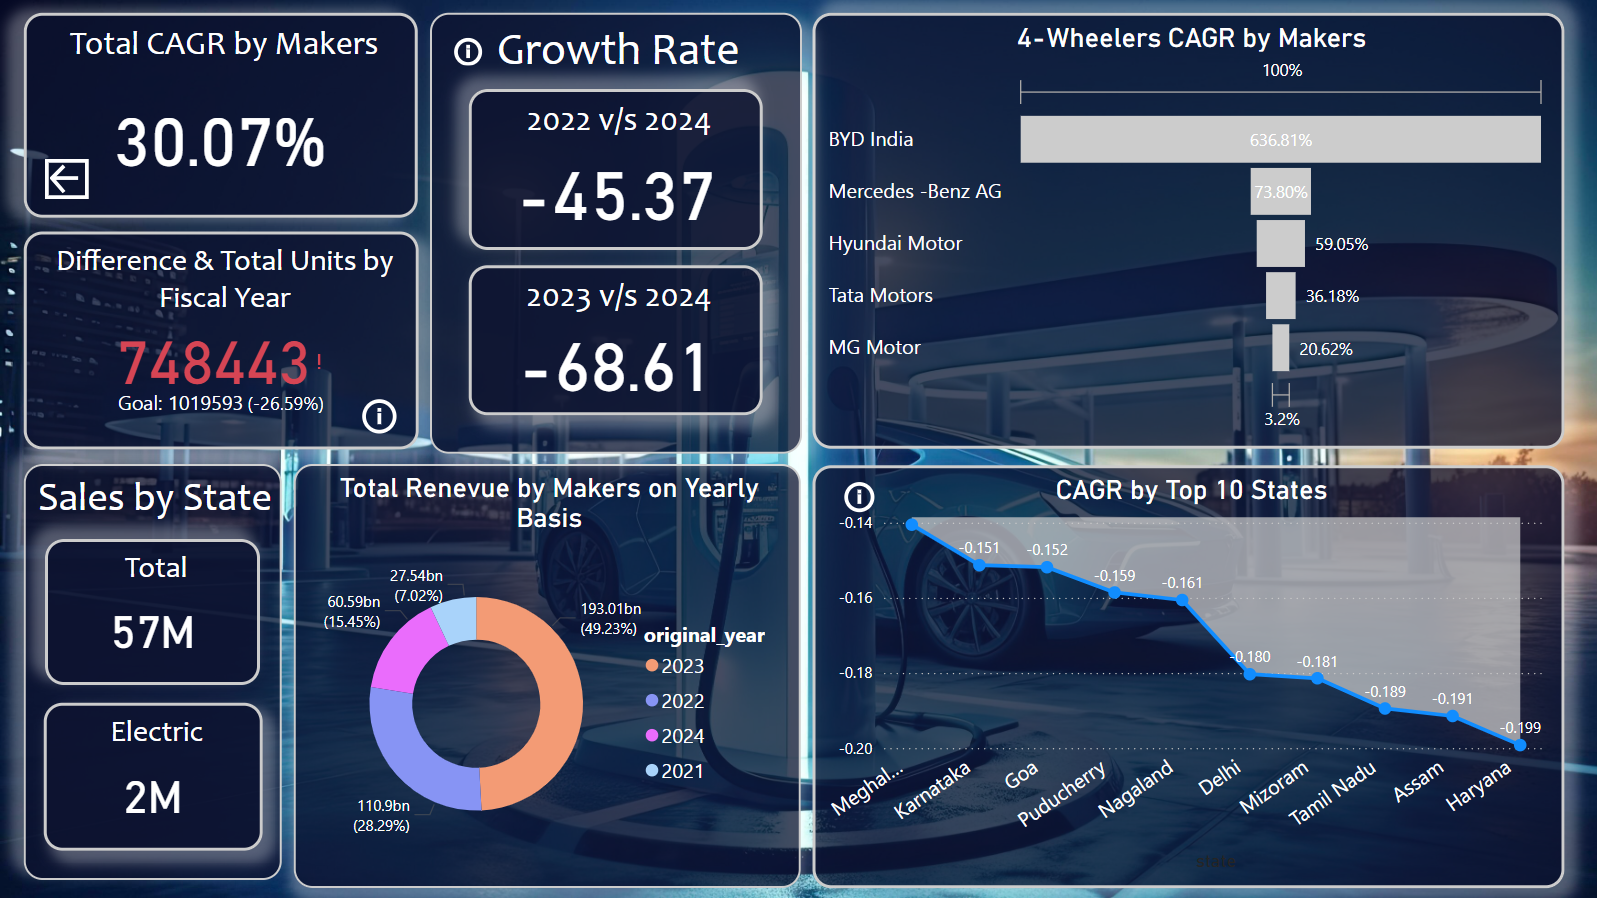

Layout of this report page (visuals, bound fields, positions):
{"tool":"powerbi","page":{"name":"Static Analysis","canvas":[1280,720],"ordinal":1},"visuals":[{"type":"card","title":"Total CAGR by Makers","fields":{"Values":["All measures.CAGR_by_Makers"]},"box":[18.9,11.4,315.5,164.1],"z":0},{"type":"funnel","title":"4-Wheelers CAGR by Makers","fields":{"Category":["Total_Units_By_Maker_4W_CAGR.maker"],"Y":["Sum(Total_Units_By_Maker_4W_CAGR.CAGR)"]},"box":[649.7,11.1,601,349.2],"z":1000},{"type":"stackedAreaChart","title":"CAGR by Top 10 States","fields":{"Category":["Total_CAGR_By_State.state"],"Y":["Sum(Total_CAGR_By_State.CAGR)"]},"box":[649.7,372.9,601,338.1],"z":2000},{"type":"group","id":"g1","title":"Group 2","box":[343.8,10.9,296.8,353.5],"z":5000,"group":"g5"},{"type":"actionButton","box":[670.8,382.4,35,32.6],"z":6000},{"type":"shape","title":"Sales by State","box":[18.9,372.3,205.7,333.2],"z":6500,"group":"g2"},{"type":"group","id":"g2","title":"Group 3","box":[18.9,372.3,205.7,333.2],"z":7000},{"type":"card","title":"Total","fields":{"Values":["Sum(sales_by_state.total_vehicles_sold)"]},"box":[35.8,432.1,171.6,117.4],"z":7000,"group":"g2"},{"type":"shape","title":"Growth Rate ","box":[343.8,10.9,296.8,353.5],"z":8000,"group":"g3"},{"type":"actionButton","box":[36.2,127.9,35,32.6],"z":8000},{"type":"card","title":"Electric","fields":{"Values":["Sum(sales_by_state.electric_vehicles_sold)"]},"box":[35.4,563.7,174.2,117.4],"z":8000,"group":"g2"},{"type":"card","title":"2022 v/s 2024","fields":{"Values":["Revenue_growth_rate.GrowthRate_2022_2024"]},"box":[374.6,72.3,235.4,129.1],"z":8500,"group":"g3"},{"type":"kpi","title":"Difference & Total Units by Fiscal Year","fields":{"Indicator":["All measures.sales_difference"],"TrendLine":["sales_by_state.fiscal_year"],"Goal":["sales_by_state.el_sold_vehicle"]},"box":[18.9,185.5,315.5,174.2],"z":9000,"group":"g4"},{"type":"card","title":"2023 v/s 2024","fields":{"Values":["Revenue_growth_rate.GrowthRate_2023_2024"]},"box":[374.6,212.5,235.4,120.6],"z":9000,"group":"g3"},{"type":"donutChart","title":"Total Renevue by Makers on Yearly Basis","fields":{"Category":["yearly_revenue_by_makers.original_year"],"Y":["Sum(yearly_revenue_by_makers.Total_Revenue)"]},"box":[234.7,372.3,405.1,338.2],"z":9000},{"type":"group","id":"g3","title":"Group 1","box":[343.8,10.9,296.8,353.5],"z":9001,"group":"g1"},{"type":"group","id":"g4","title":"Group 4","box":[18.9,185.5,315.5,174.2],"z":10000},{"type":"actionButton","box":[285.2,313,36.6,40.4],"z":10001,"group":"g4"},{"type":"actionButton","box":[358.4,21.5,31.6,40.4],"z":11000,"group":"g5"},{"type":"group","id":"g5","title":"Group 5","box":[343.8,10.9,296.8,353.5],"z":11001}]}

Visuals, with their boxes in screenshot pixels (x1, y1, x2, y2), scaled from the page's 1280x720 canvas onto the 1597x898 screenshot:
"Total CAGR by Makers" card: 24, 14, 417, 219
"4-Wheelers CAGR by Makers" funnel: 811, 14, 1560, 449
"CAGR by Top 10 States" stackedAreaChart: 811, 465, 1560, 887
"Group 2" group: 429, 14, 799, 454
actionButton: 837, 477, 881, 518
"Sales by State" shape: 24, 464, 280, 880
"Group 3" group: 24, 464, 280, 880
"Total" card: 45, 539, 259, 685
"Growth Rate " shape: 429, 14, 799, 454
actionButton: 45, 160, 89, 200
"Electric" card: 44, 703, 262, 849
"2022 v/s 2024" card: 467, 90, 761, 251
"Difference & Total Units by Fiscal Year" kpi: 24, 231, 417, 449
"2023 v/s 2024" card: 467, 265, 761, 415
"Total Renevue by Makers on Yearly Basis" donutChart: 293, 464, 798, 886
"Group 1" group: 429, 14, 799, 454
"Group 4" group: 24, 231, 417, 449
actionButton: 356, 390, 401, 441
actionButton: 447, 27, 487, 77
"Group 5" group: 429, 14, 799, 454
